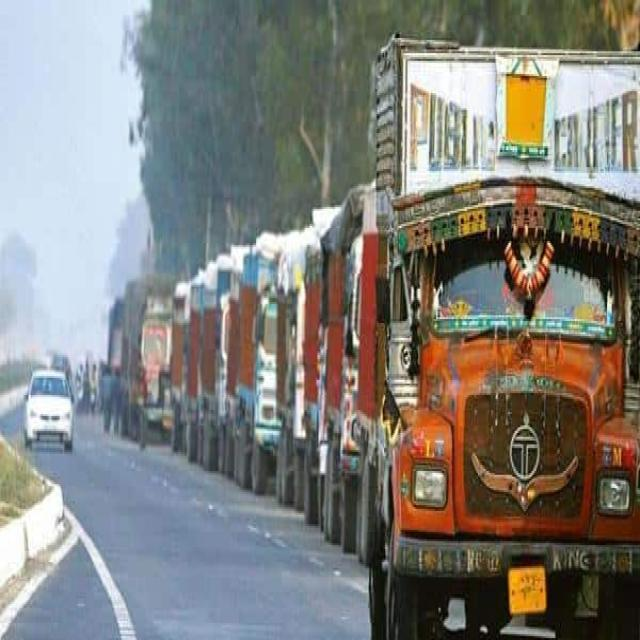truck: (357, 38, 640, 638)
